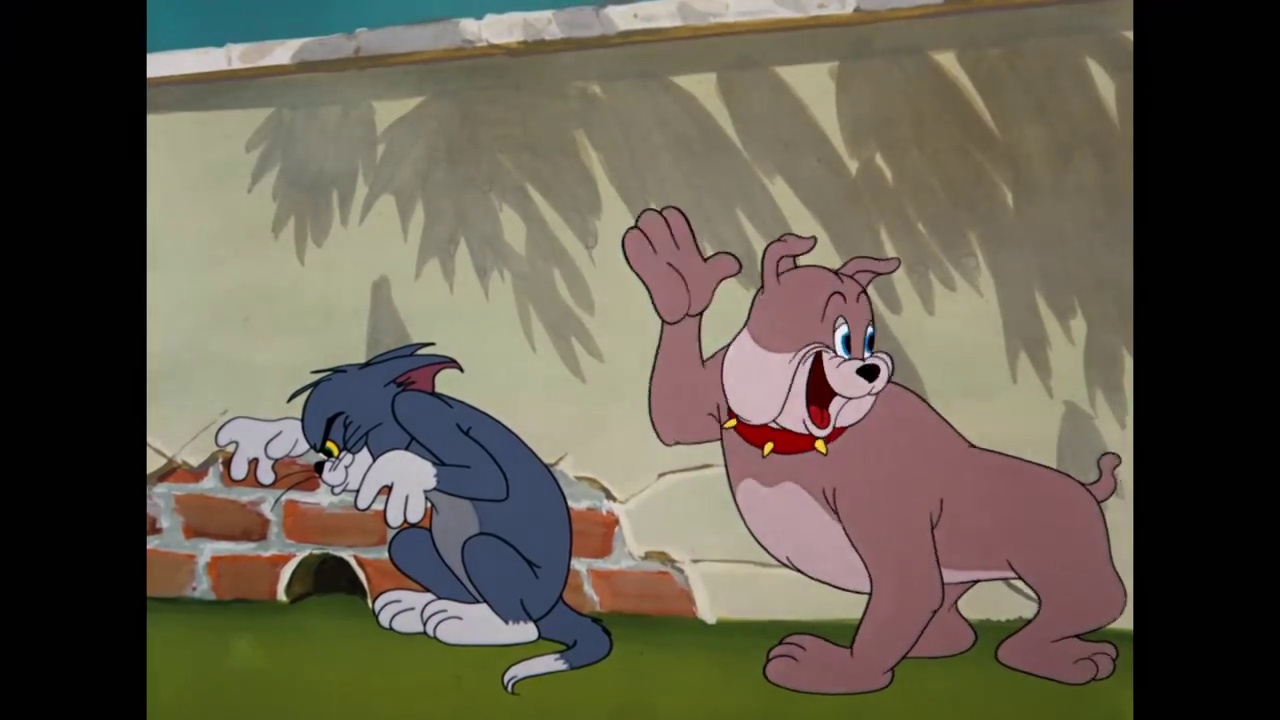spike: (719, 231, 911, 459)
tom: (285, 341, 473, 500)
